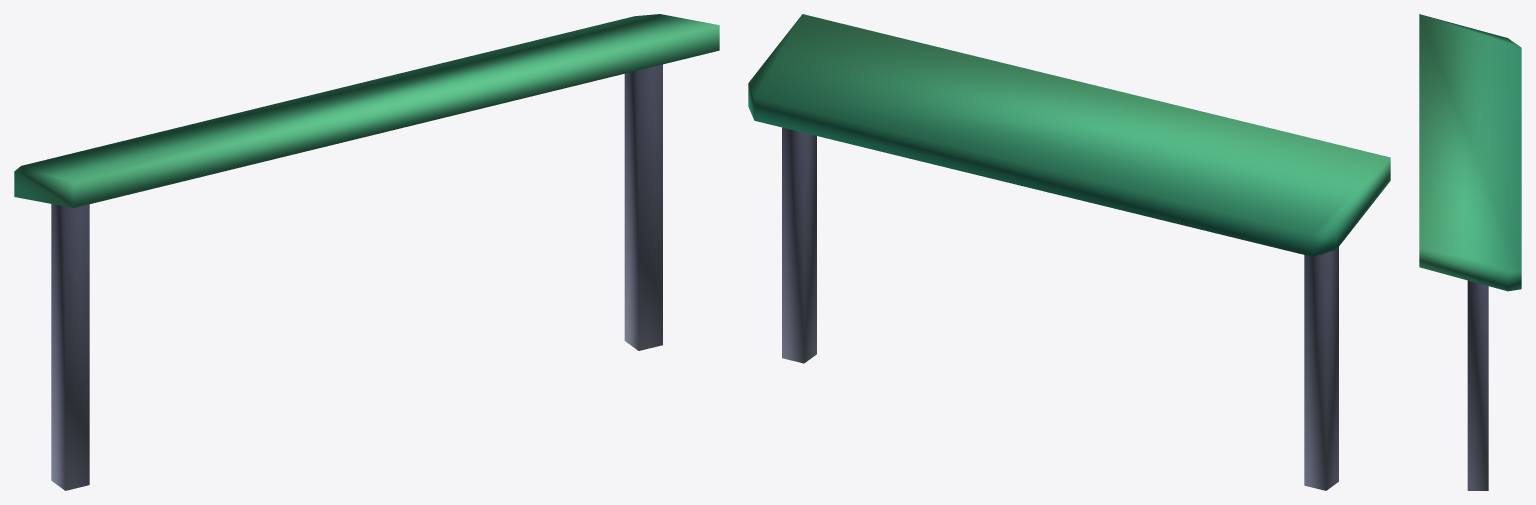
Rendered from detail-awning-wide_lev1.glb.
3 renders of one model, left to right at view 1: azimuth 30°, elevation 25°; view 2: azimuth 150°, elevation 25°; view 3: azimuth 270°, elevation 25°, orthographic. The views are drawn at different scales.
Visible parts, largest first — view 1: detail-awning-wide_lev1; view 2: detail-awning-wide_lev1; view 3: detail-awning-wide_lev1.
Boxes of the visible parts, x1,y1,x2,y2 form: detail-awning-wide_lev1: (14, 14, 719, 490); detail-awning-wide_lev1: (748, 14, 1390, 490); detail-awning-wide_lev1: (1419, 14, 1521, 490).
Size of the model in its own units: 0.8 by 0.4 by 0.1479.
1 material, 1 textured.
